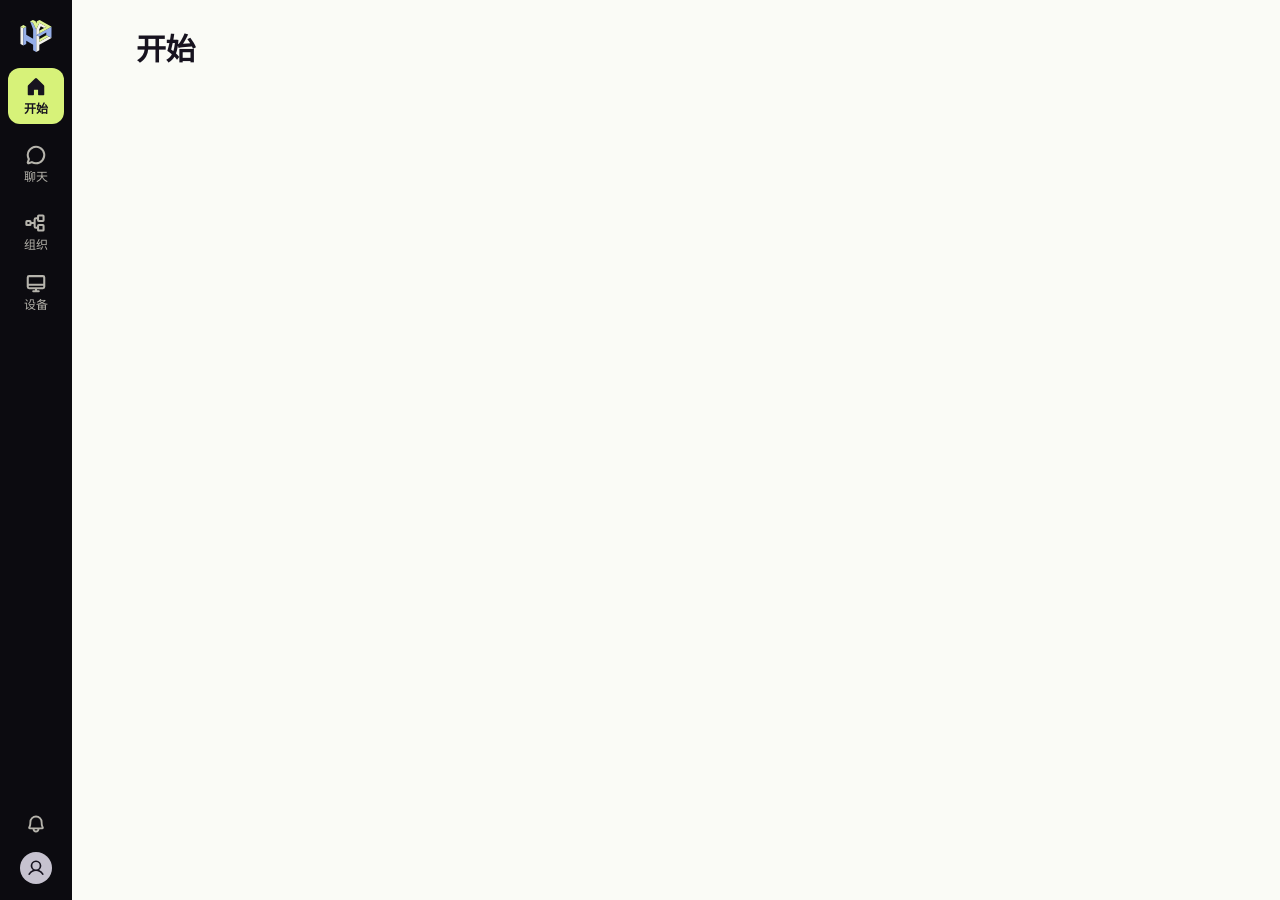
J7 integration: mounting and product defaults › TC-001 mounts the topology section after the machine section
Click the button "组织" at (36, 232), box [8,204,64,260]
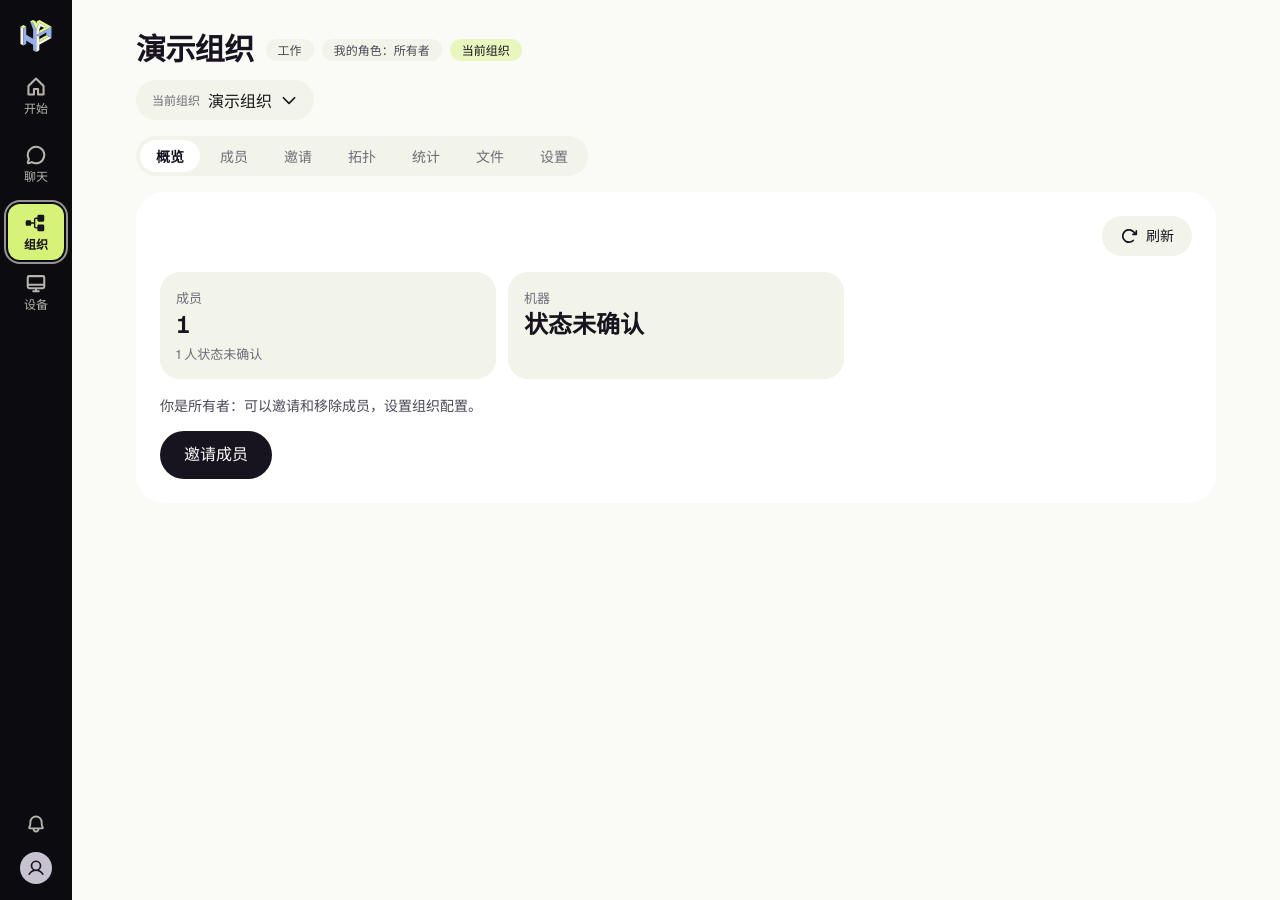
Click the tab "拓扑" at (362, 156), box [332,140,392,172]
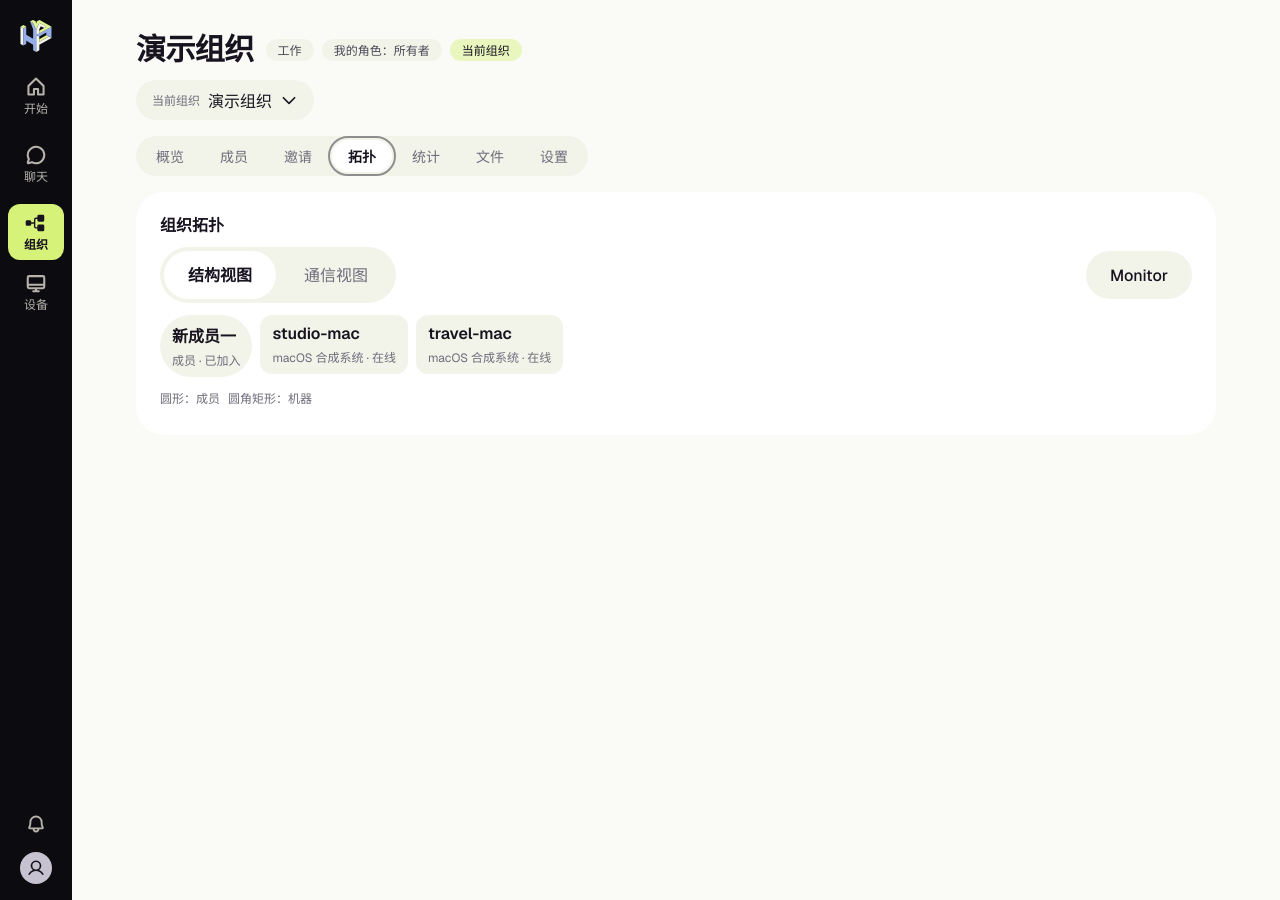
Now the element with class "org-topology" is shown, box [160,216,1192,411]
Click the tab "成员" at (234, 156), box [204,140,264,172]
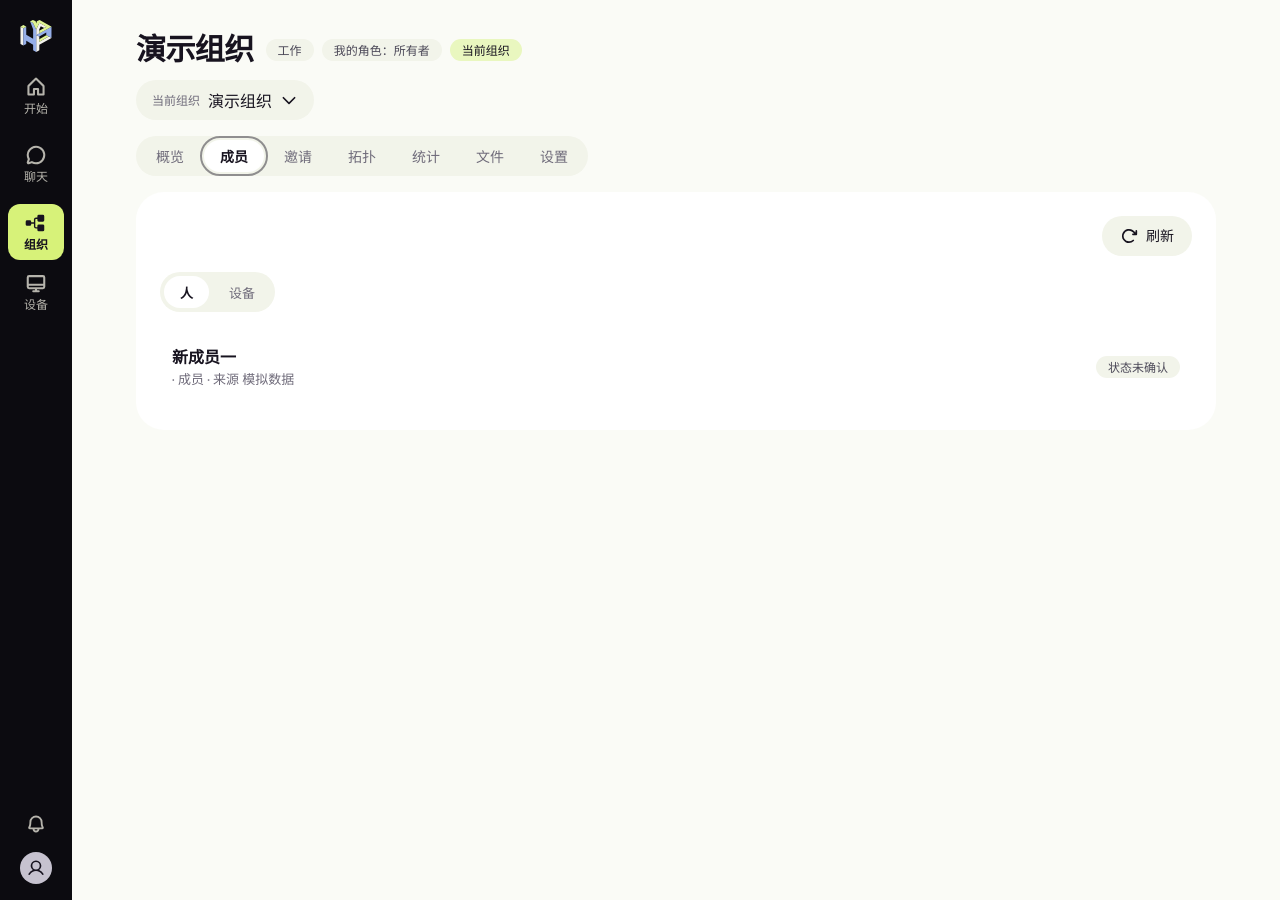
Click the tab "设备" at (242, 292), box [213,276,271,308]
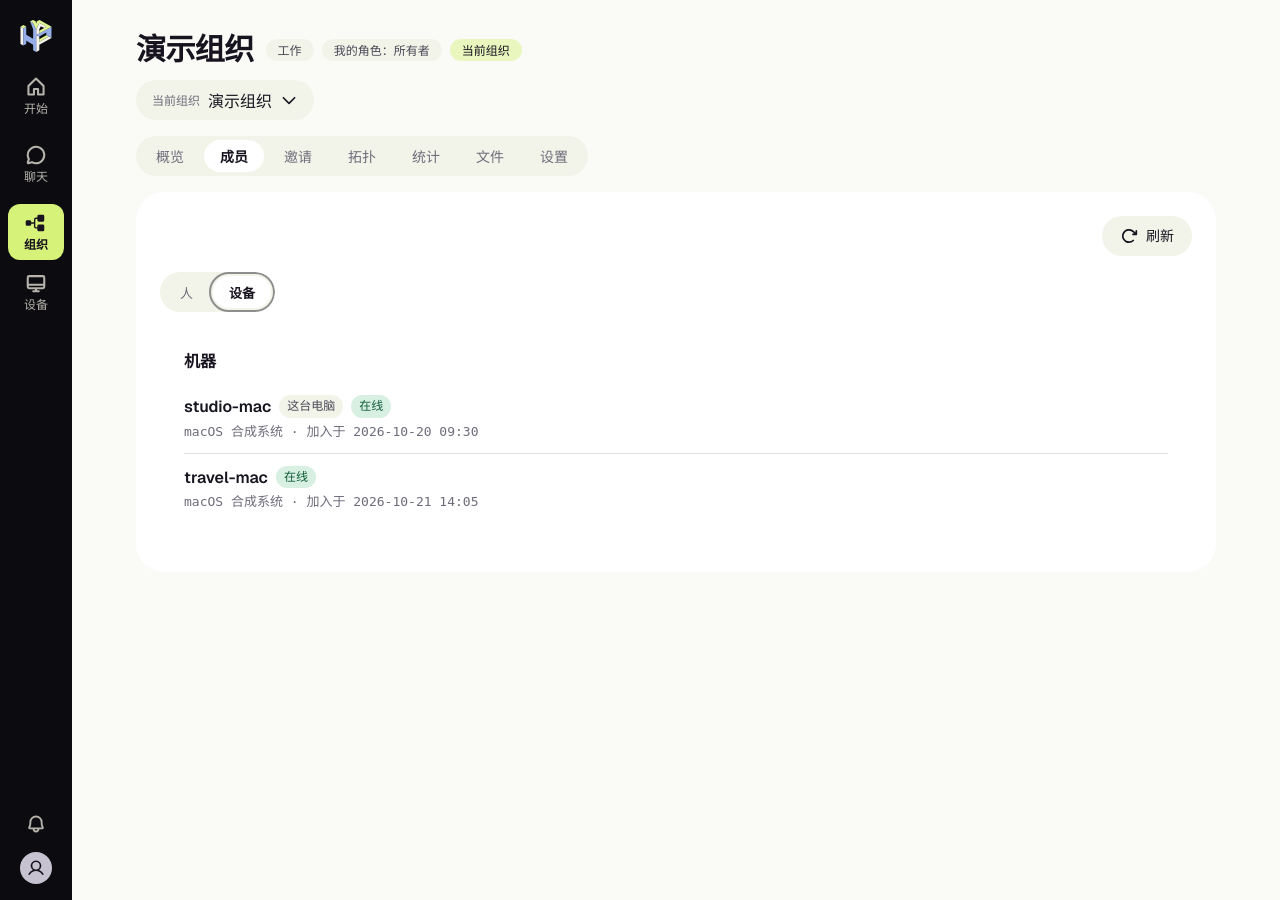
Now the element with class "org-machines" is shown, box [184,352,1168,524]
